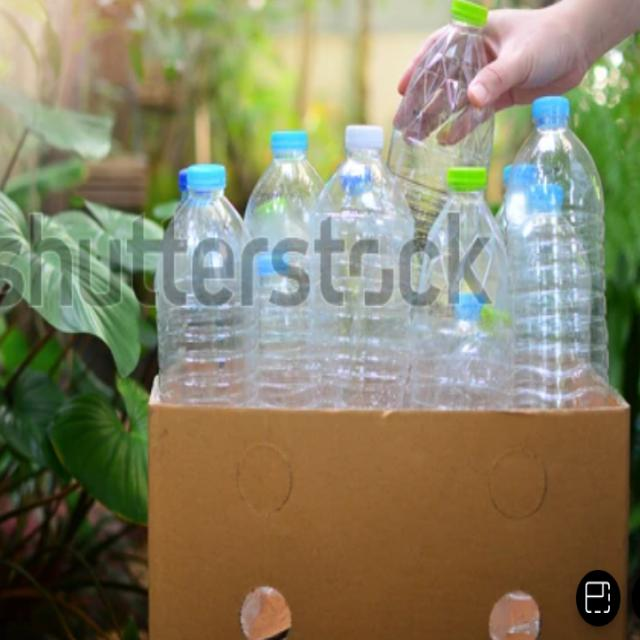dry: (164, 408, 572, 604), (325, 131, 415, 418), (529, 110, 609, 402), (428, 174, 520, 404), (157, 188, 256, 396)
